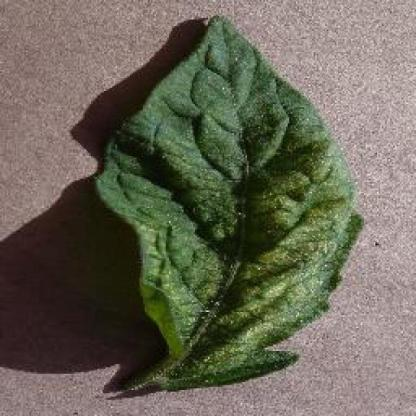Tomato_Spider_Mites: (100, 17, 362, 384)
